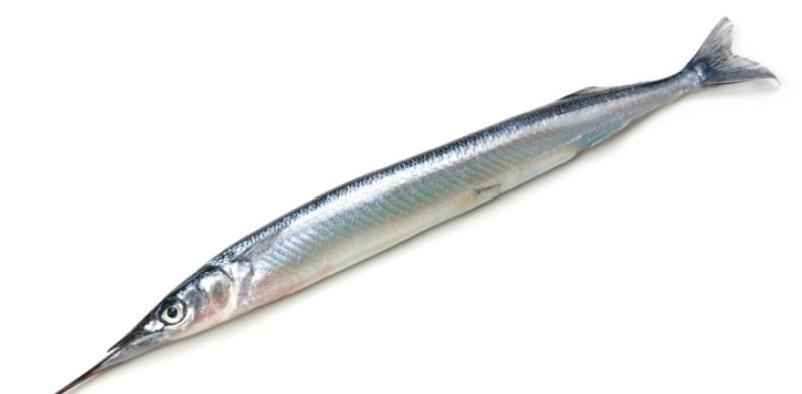fish: (56, 17, 782, 393)
